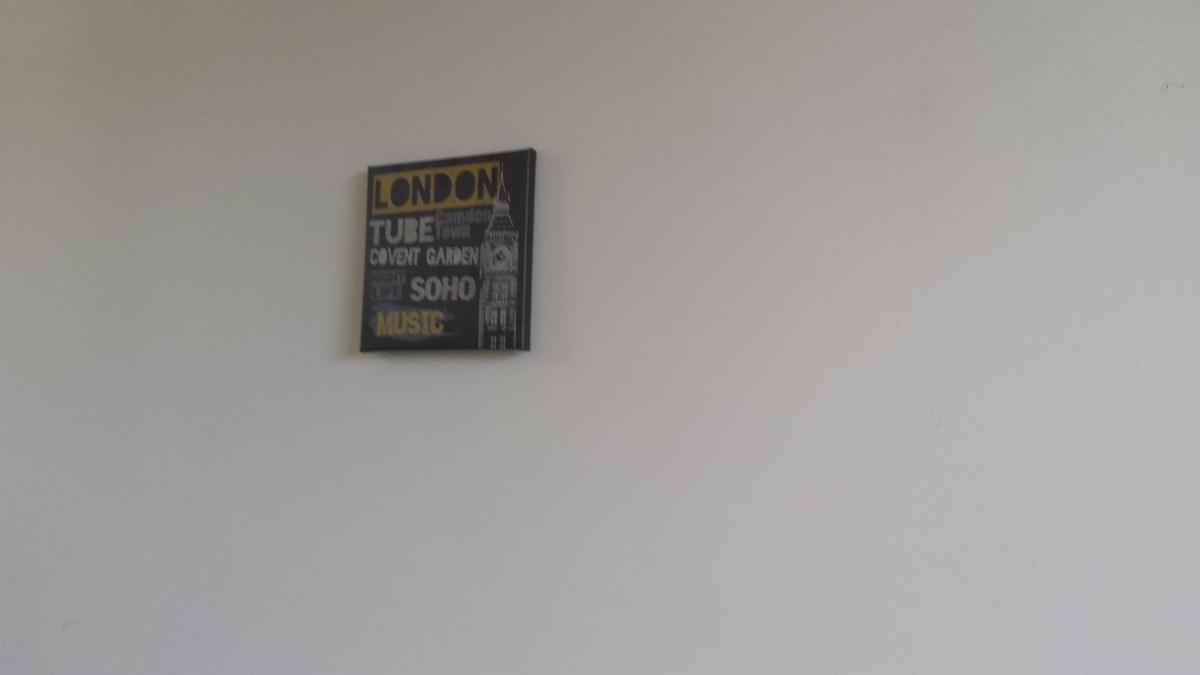poster: (344, 154, 555, 359)
